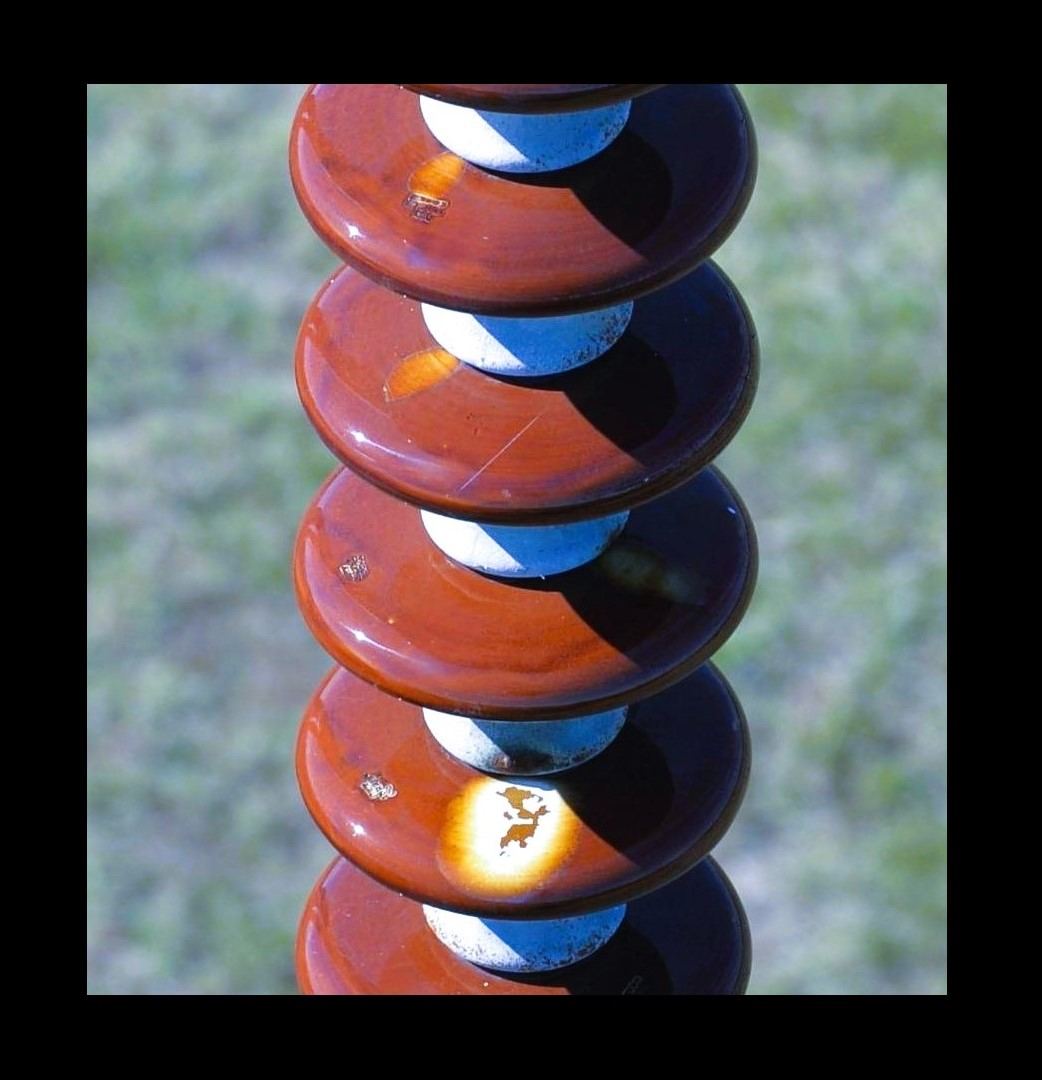Insulator flashover: (285, 634, 759, 931)
